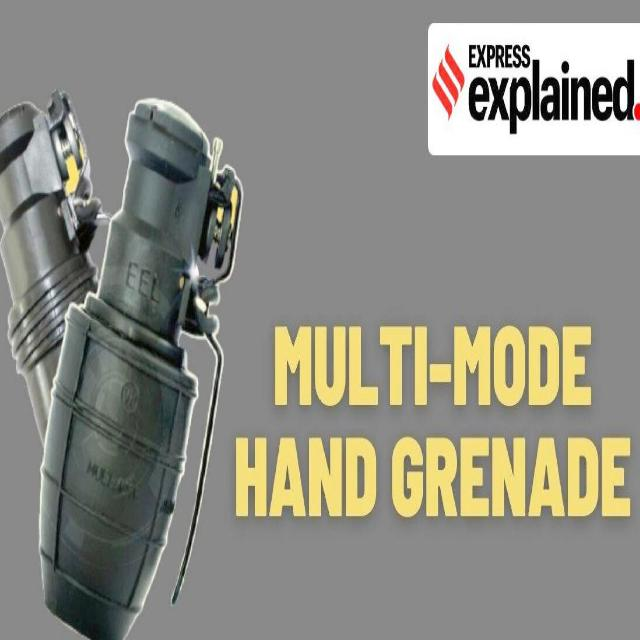grenade: (39, 99, 246, 640), (1, 89, 102, 451)
